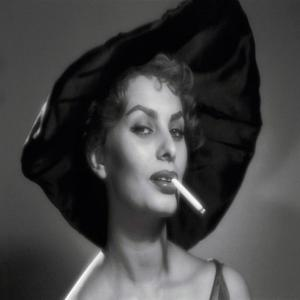cigarette: (172, 180, 208, 217)
